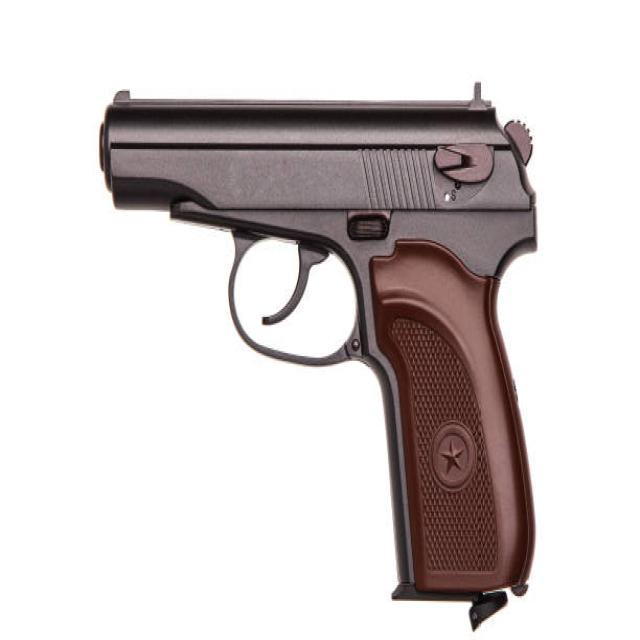pistol: (93, 75, 553, 640)
